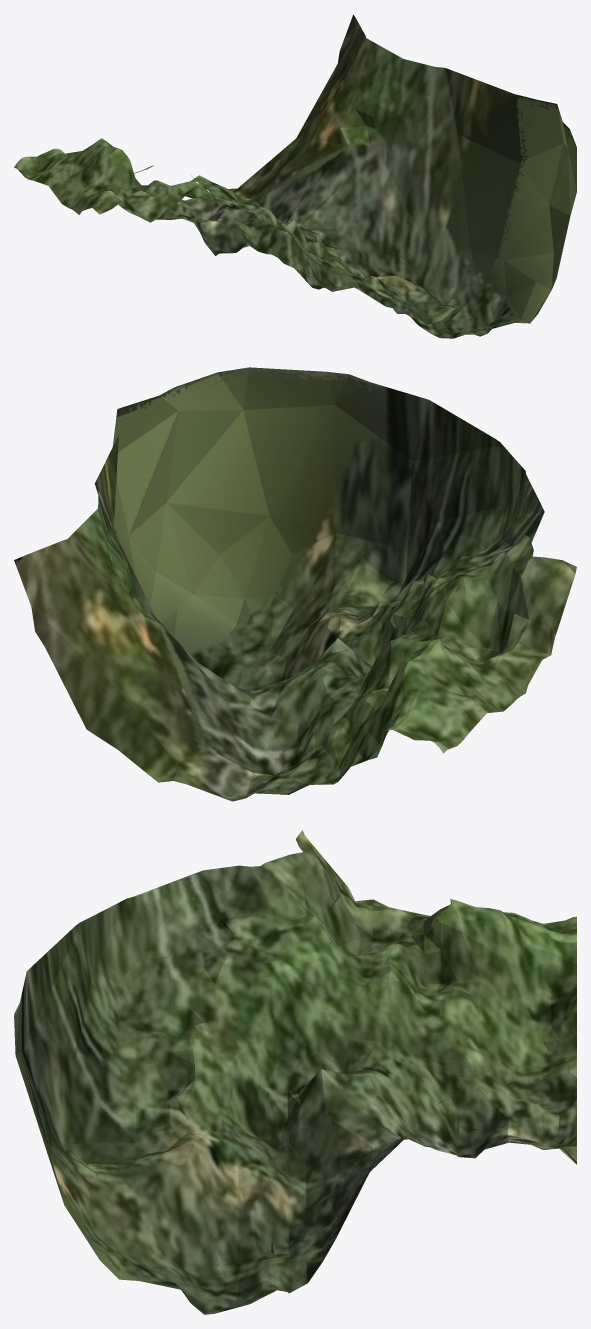
3 renders of one model, top to bottom at view 1: azimuth 30°, elevation 25°; view 2: azimuth 150°, elevation 25°; view 3: azimuth 270°, elevation 25°, orthographic. The views are drawn at different scales.
Size of the model in its own units: 5.56 by 2.79 by 5.14.
3 materials, 3 textured.
